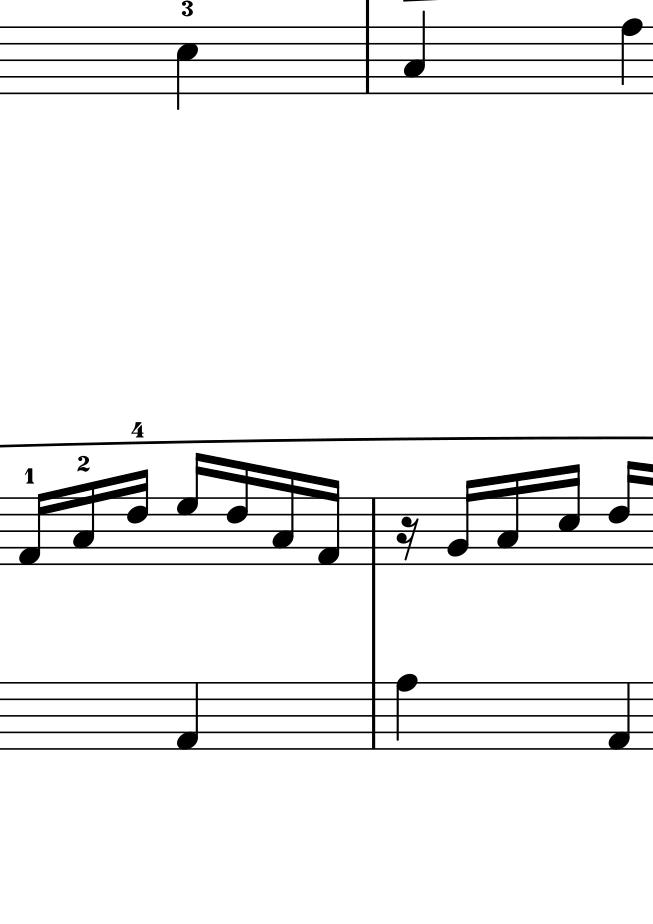16_0: (318, 478, 342, 569)
16_1: (17, 490, 50, 568)
16_2: (445, 480, 477, 565)
16_3: (270, 467, 295, 567), (71, 478, 97, 569), (496, 471, 520, 567)
16_5: (557, 459, 583, 566)
16_6: (607, 456, 641, 568), (225, 459, 251, 567), (125, 464, 151, 567)
16_7: (175, 450, 207, 568)
3: (180, 1, 193, 18)
4_1: (606, 681, 632, 752), (174, 682, 200, 752)
4_3: (402, 10, 427, 95)
4_5: (175, 25, 199, 113)
4_8: (394, 671, 418, 751)
8_8: (620, 15, 644, 97)
Rests16: (395, 514, 420, 561)
Single_barline: (365, 683, 382, 747), (365, 500, 382, 563), (360, 27, 375, 92)
